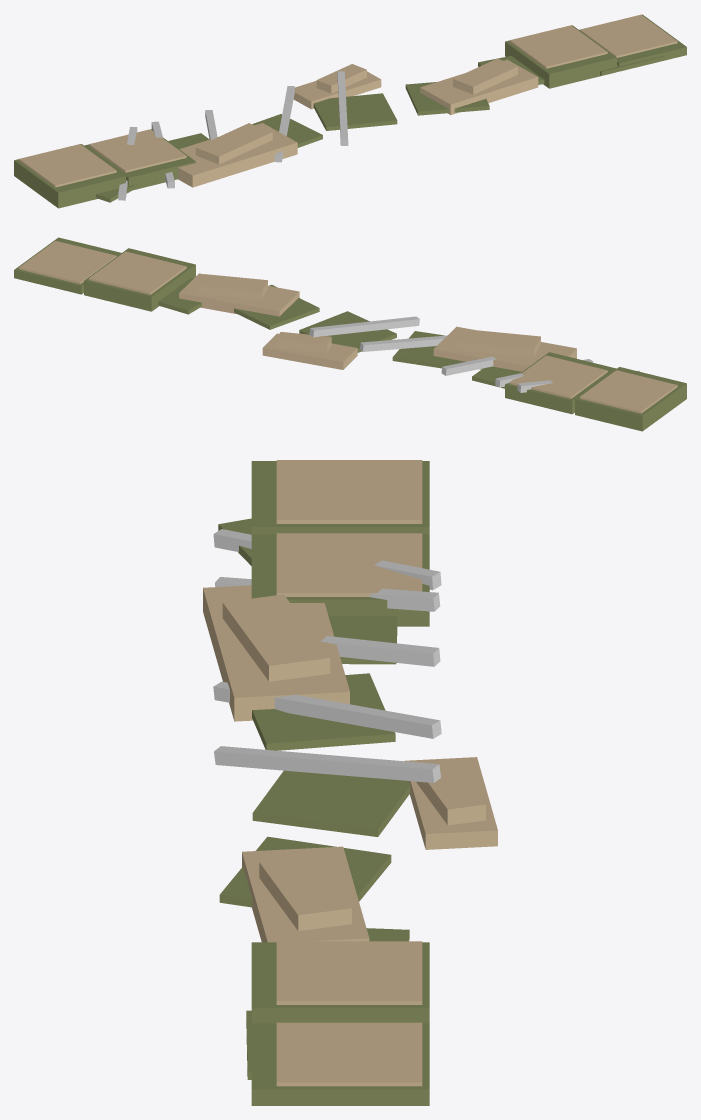
Rendered from SM_MuroHesco_v0_MallaLimpia_e3_Brecha_LOD1.fbx.
3 views of the same model, one above another, from view 1: azimuth 30°, elevation 25°; view 2: azimuth 150°, elevation 25°; view 3: azimuth 270°, elevation 25° (orthographic). The views are drawn at different scales.
Parts seen in each view (by area): view 1: SM_bloques.muro_hesco_estados_v3_LOD1; view 2: SM_bloques.muro_hesco_estados_v3_LOD1; view 3: SM_bloques.muro_hesco_estados_v3_LOD1.
Part boxes in pixels (box(x1,y1,x2,y2)): SM_bloques.muro_hesco_estados_v3_LOD1: box(14, 14, 686, 208); SM_bloques.muro_hesco_estados_v3_LOD1: box(14, 237, 686, 431); SM_bloques.muro_hesco_estados_v3_LOD1: box(203, 460, 497, 1105).
Size of the model in its own units: 9.96 by 0.351 by 2.02.
